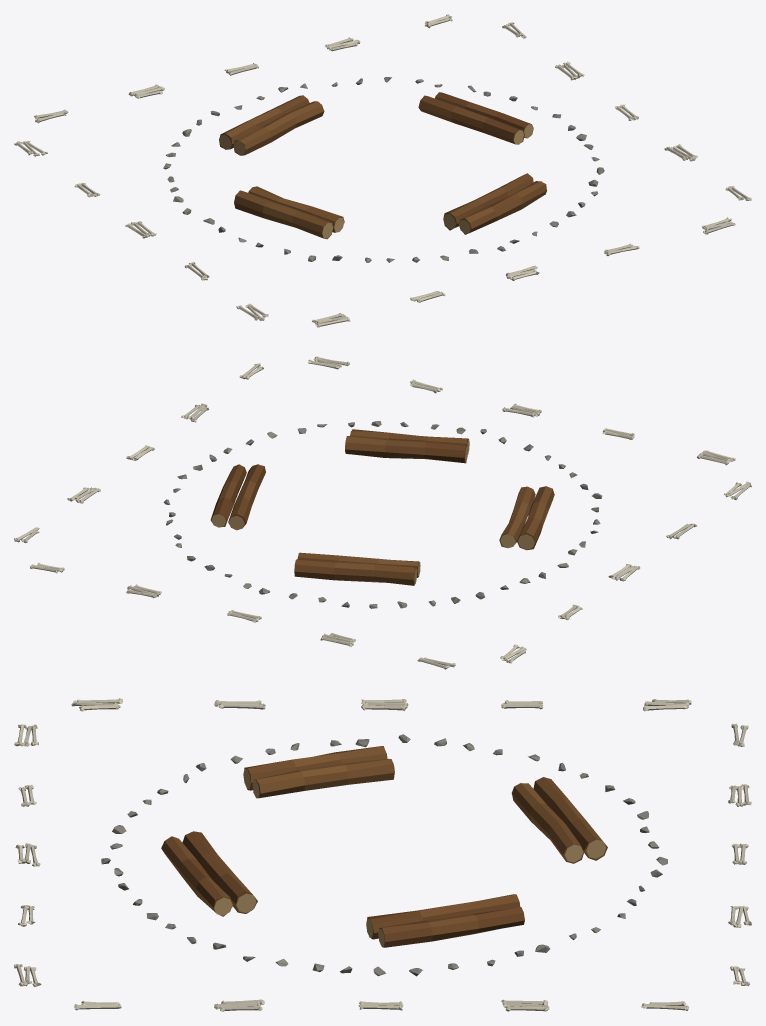
Rendered from feast_ground_3_finito.glb.
3 views of the same model, one above another, from view 1: azimuth 30°, elevation 25°; view 2: azimuth 150°, elevation 25°; view 3: azimuth 270°, elevation 25° (orthographic). The views are drawn at different scales.
Visible parts, largest first — view 1: feast_ground_3_finito; view 2: feast_ground_3_finito; view 3: feast_ground_3_finito.
Boxes of the visible parts, bbox=[...] form: feast_ground_3_finito: bbox=[14, 14, 751, 327]; feast_ground_3_finito: bbox=[14, 356, 751, 669]; feast_ground_3_finito: bbox=[14, 698, 751, 1011].
Size of the model in its own units: 17.82 by 0.6622 by 17.83.
